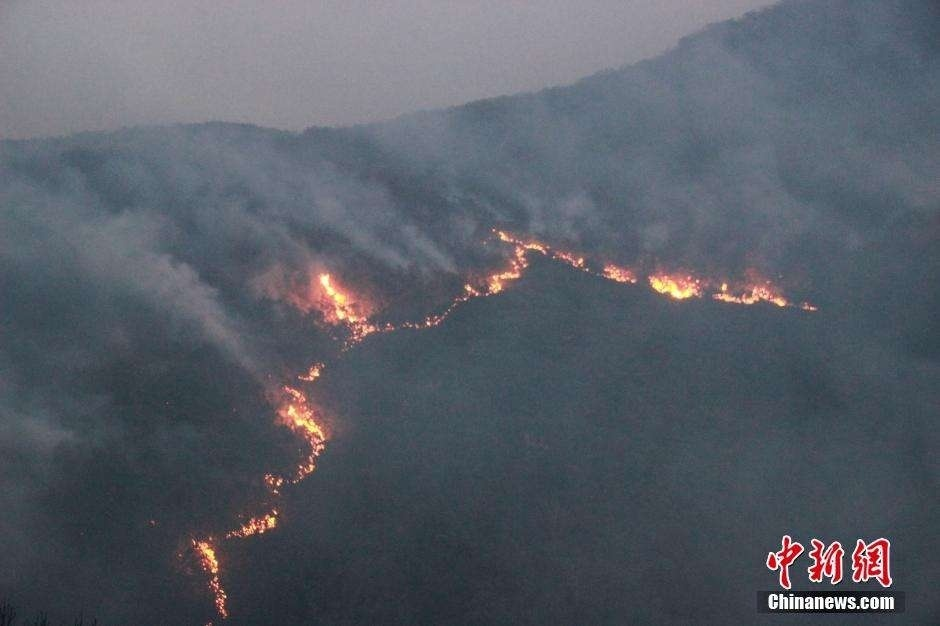fire: (116, 209, 726, 626)
